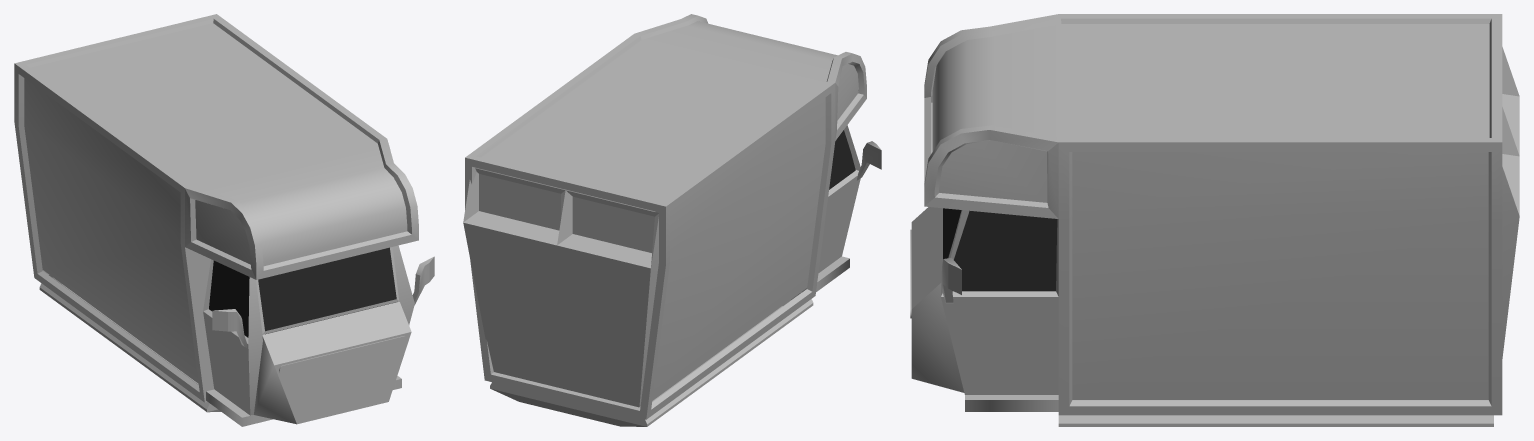
File: KF_SM_MiiniTruck.fbx
3 renders of one model, left to right at view 1: azimuth 30°, elevation 25°; view 2: azimuth 150°, elevation 25°; view 3: azimuth 270°, elevation 25°, orthographic. The views are drawn at different scales.
Visible parts, largest first — view 1: Load, KF_SM_MiniTruck; view 2: Load, KF_SM_MiniTruck; view 3: Load, KF_SM_MiniTruck.
Part boxes in pixels (x1,y1,x2,y2): Load: [24, 23, 407, 389]; KF_SM_MiniTruck: [14, 14, 434, 426]; Load: [476, 21, 858, 400]; KF_SM_MiniTruck: [463, 14, 881, 426]; Load: [932, 24, 1489, 399]; KF_SM_MiniTruck: [910, 14, 1519, 426].
Bounding box in the file's own units: 599 × 611 × 1095.
